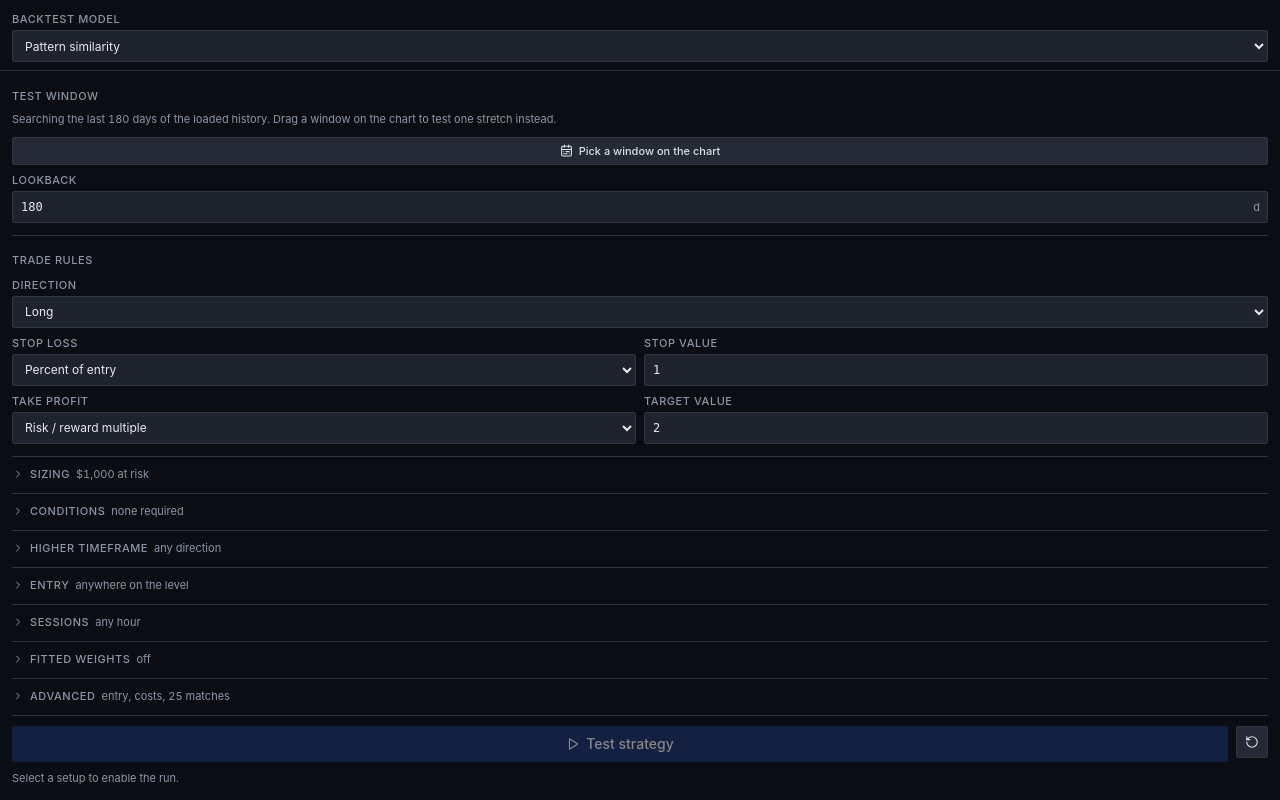
Scenario: what a run searches, as the panel says it › names every charted market when no description narrowed it
(page scrolled)
Click the button "Advanced entry, costs, 25 matches".
click(63, 696)  # box [12,689,1268,703]
(page scrolled)
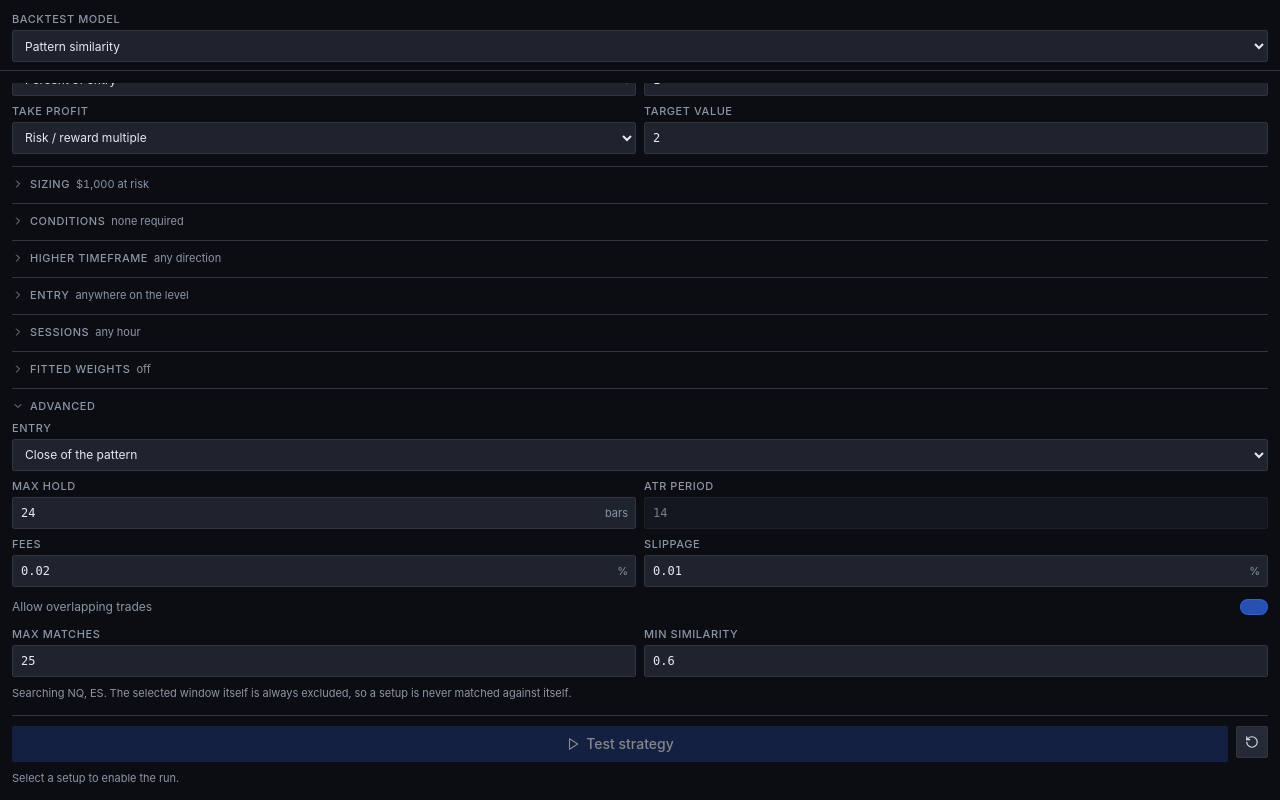
Expected: the text "Searching NQ, ES." is shown, [12,686,571,700]
